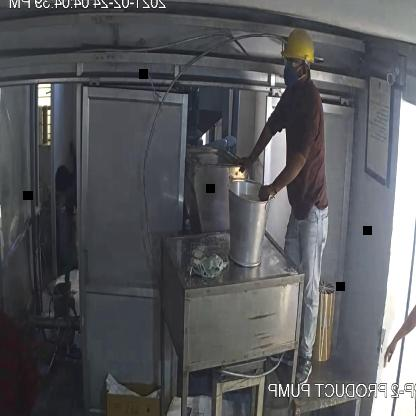helmet: (276, 20, 322, 70)
